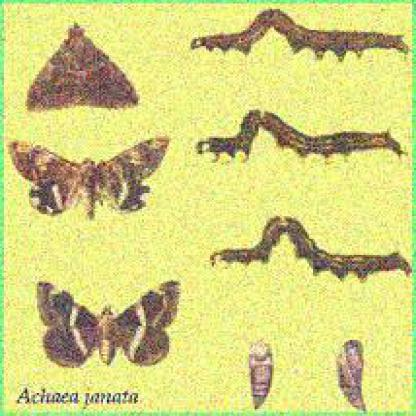fruit sucking moth: (9, 137, 167, 220), (37, 279, 181, 370), (25, 26, 141, 113)
